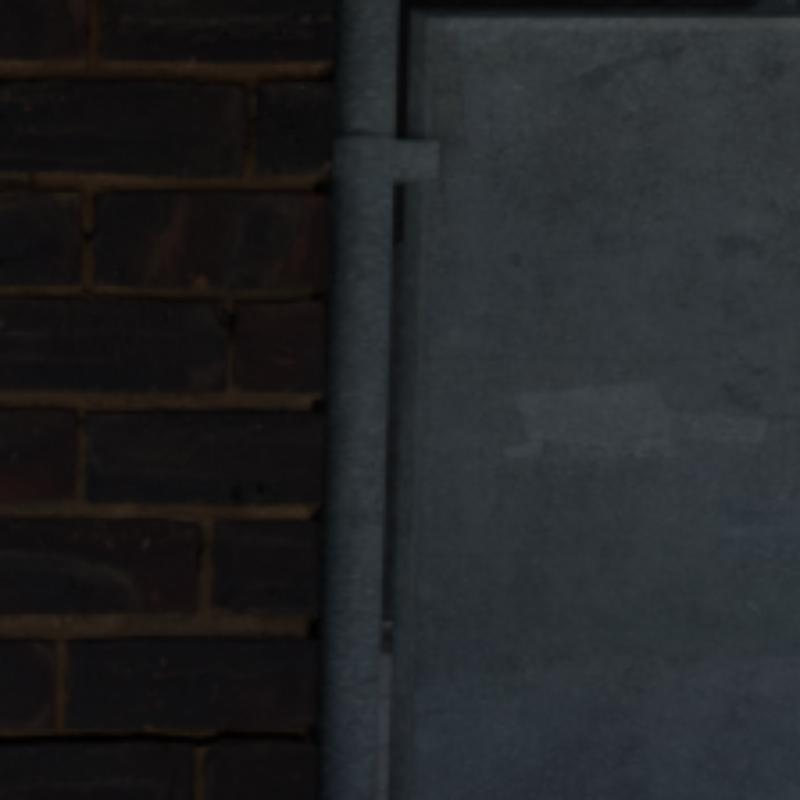pothole: (0, 732, 300, 743)
